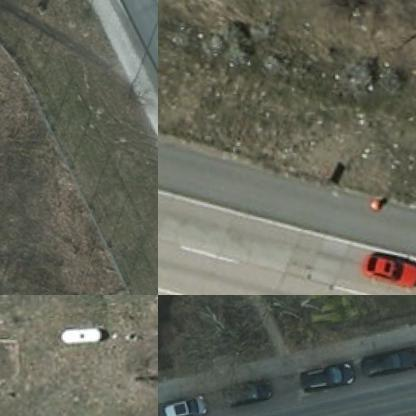car: (358, 244, 415, 294), (300, 362, 356, 394), (222, 378, 278, 410), (365, 347, 415, 377), (161, 395, 210, 415)
